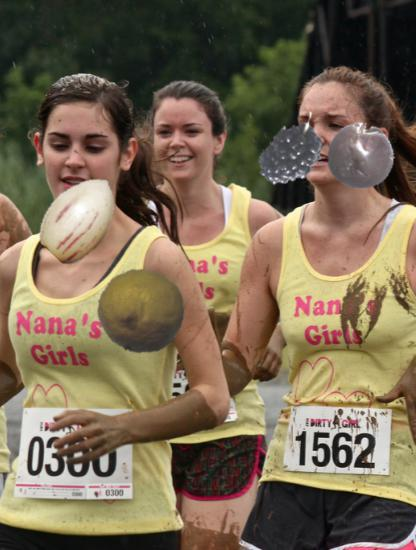Lemon: (97, 267, 186, 356)
Mulberry: (259, 115, 343, 199)
Passion: (327, 121, 396, 190)
Pepino: (35, 173, 127, 265)
